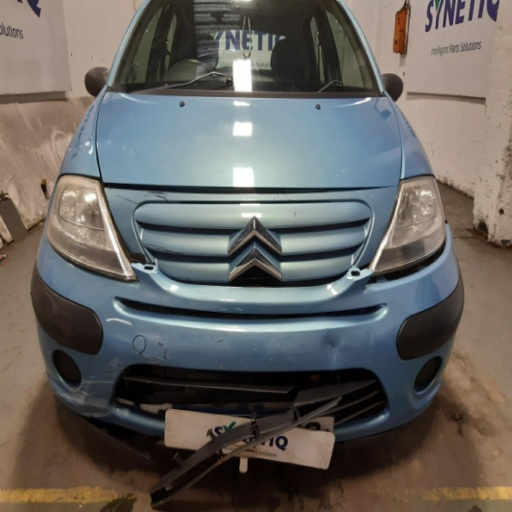dent: (320, 329, 345, 364), (364, 327, 376, 352), (391, 324, 399, 336)
scratch: (55, 375, 115, 408), (101, 356, 131, 377), (146, 341, 168, 362), (135, 331, 167, 342), (325, 344, 336, 363), (215, 338, 230, 346), (116, 333, 133, 338), (253, 342, 258, 354), (240, 358, 247, 363), (152, 326, 162, 329), (270, 345, 282, 347), (288, 356, 293, 360), (268, 358, 274, 361), (301, 344, 307, 347), (220, 366, 223, 369)
